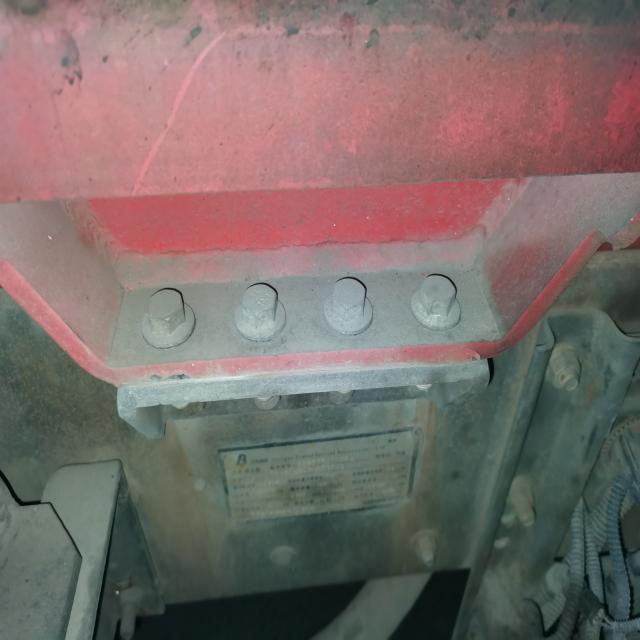blur bolt: (508, 482, 536, 519), (117, 584, 144, 617), (413, 534, 439, 567)
bolt head: (145, 284, 188, 337), (239, 279, 280, 330), (417, 272, 458, 320), (327, 277, 368, 322)
bolt nut: (547, 349, 581, 395)
